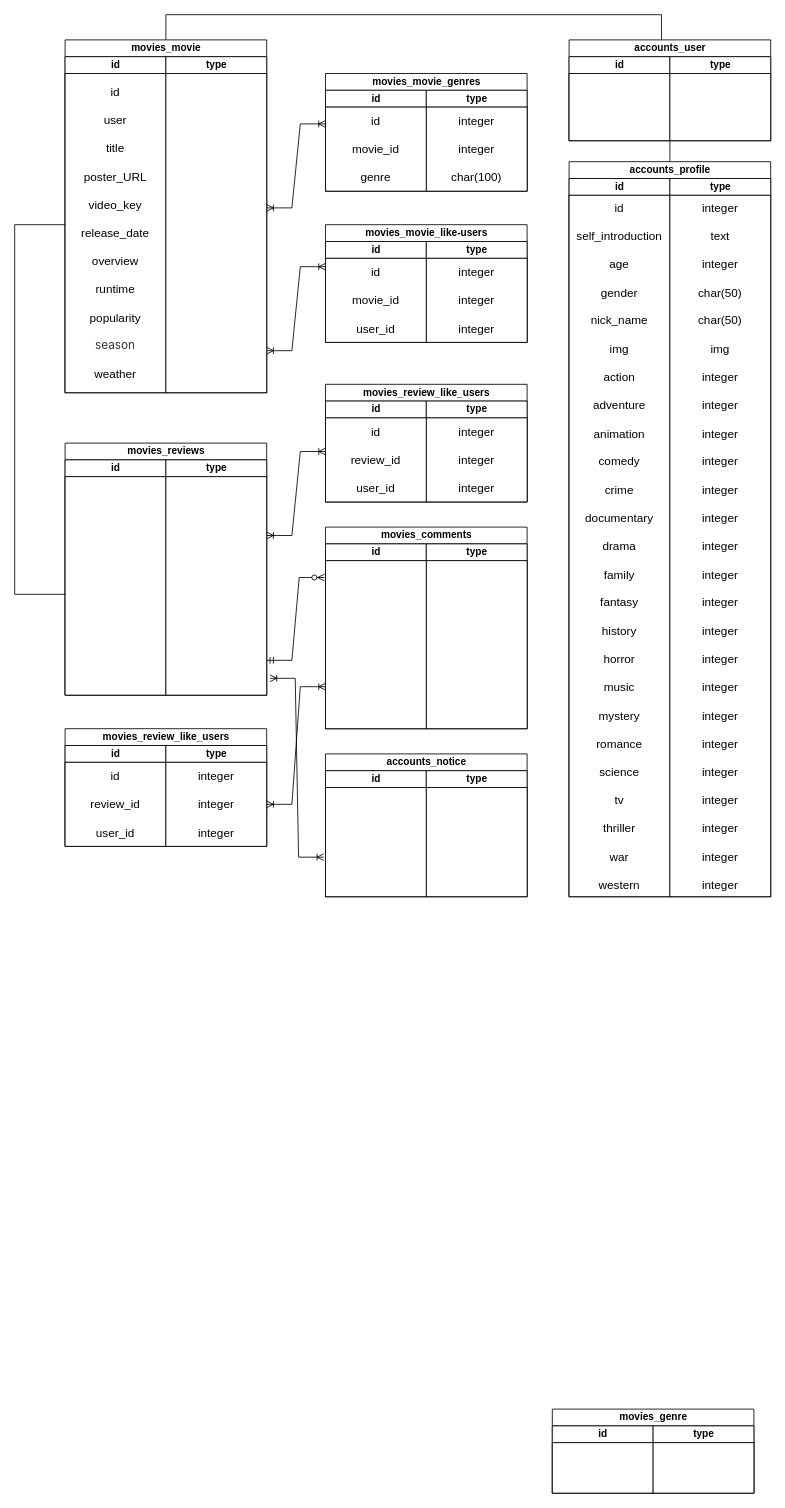
The diagram is 785 pixels wide and 1508 high, and some of its shapes have lost their labels. The centre of each missing label's shape, as x and y in pixels:
id followings: the point at 619,107
id genre: the point at 602,1467
id user title content img created_at updated_at movie_id: the point at 115,585
id user_id content created_at updated_at review_id: the point at 375,644
integer char(30): the point at 703,1467
integer integer: the point at 720,107
integer integer char(100) boolean: the point at 476,842
integer integer char(50) text img datetime datetime integer: the point at 216,585
integer integer char(50) URL(200) text text text integer float integer integer: the point at 216,233
integer integer text datetime datetime integer: the point at 476,644
user review content is_checked: the point at 375,842
